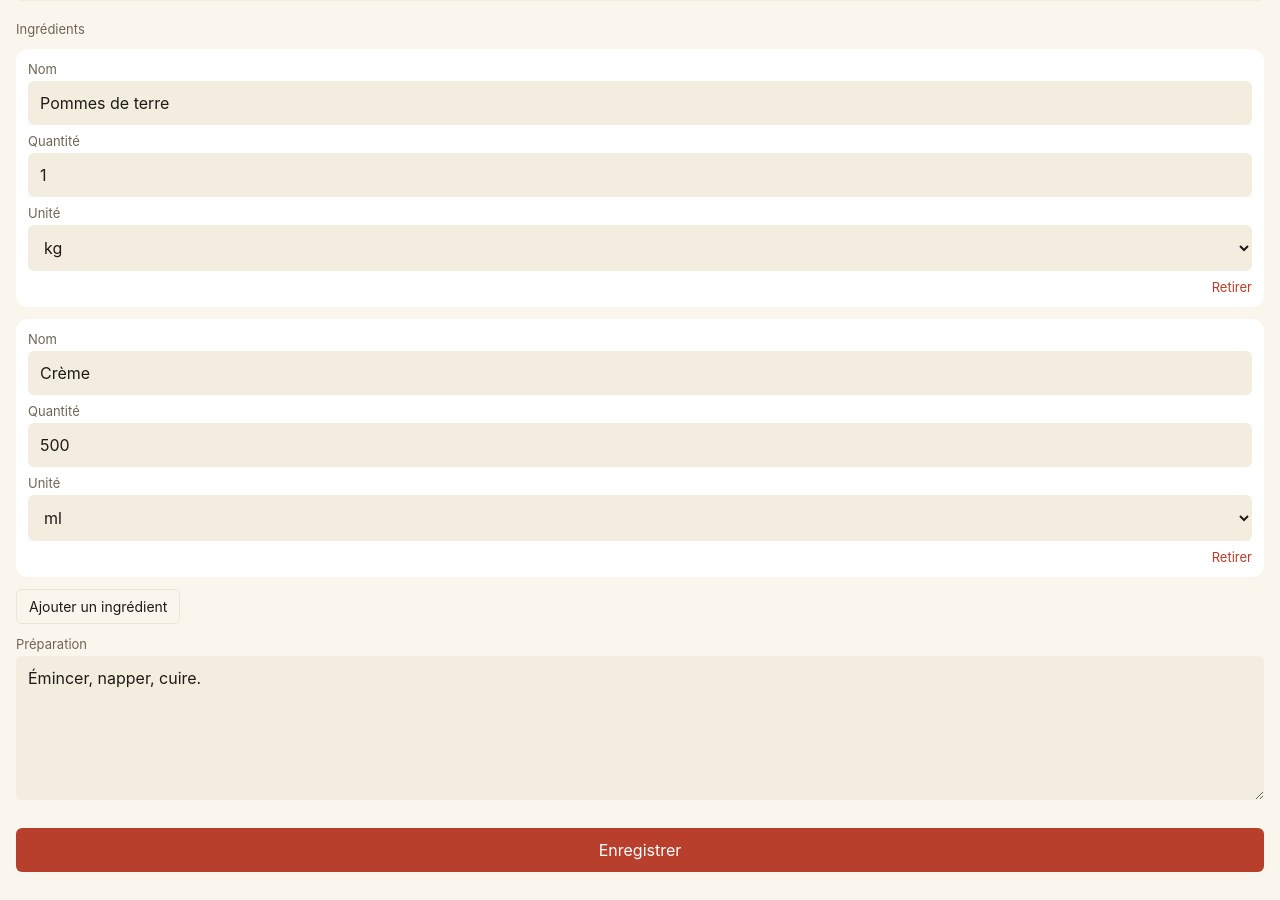
Scenario: RecipeEditContainer › verrouille « Enregistrer » pendant que la modification est en vol
The width and height of the screenshot is (1280, 900).
(page scrolled)
Click the button "Enregistrer" at (640, 850), box [16,828,1264,872]
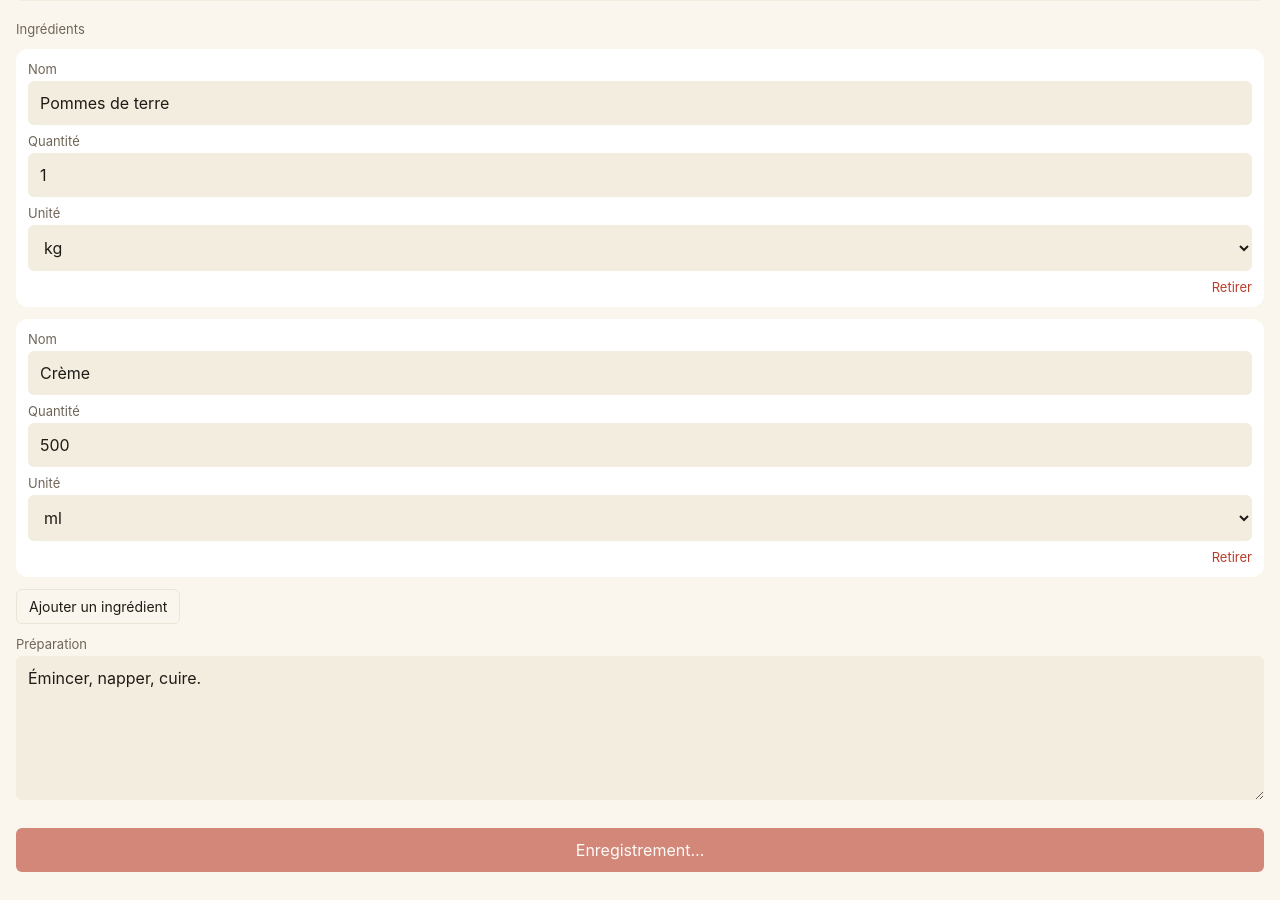
Check: the button "Enregistrement…" is disabled, box [16,828,1264,872]
